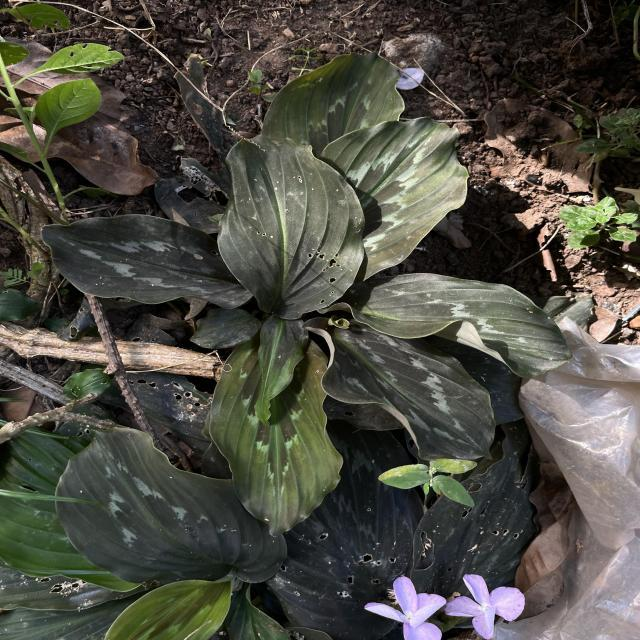Kaempferia galanga linn: (52, 421, 291, 586), (212, 131, 369, 322), (303, 316, 499, 464), (202, 342, 347, 540), (366, 272, 574, 379), (37, 211, 257, 312)
